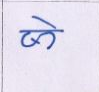e_matra: (32, 15, 59, 29)
